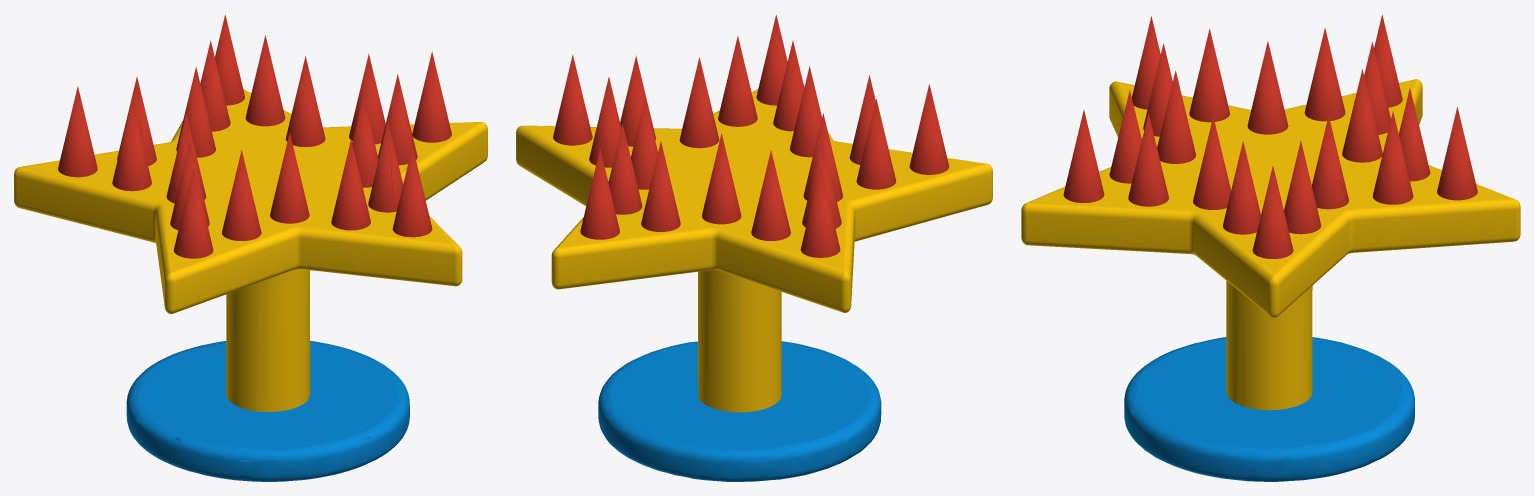
Rendered from palm-star.glb.
The picture shows the model from 3 angles, left to right: view 1: azimuth 30°, elevation 25°; view 2: azimuth 150°, elevation 25°; view 3: azimuth 270°, elevation 25°; orthographic projection. The views are drawn at different scales.
Parts seen in each view (by area): view 1: palm-star-part-003, palm-star-part-001, palm-star-part-002, palm-star-part-004, palm-star-part-022, palm-star-part-007, palm-star-part-008, palm-star-part-014, palm-star-part-020, palm-star-part-009, palm-star-part-012, palm-star-part-005 (+11 smaller); view 2: palm-star-part-003, palm-star-part-001, palm-star-part-002, palm-star-part-016, palm-star-part-023, palm-star-part-006, palm-star-part-020, palm-star-part-011, palm-star-part-014, palm-star-part-013, palm-star-part-021, palm-star-part-004 (+11 smaller); view 3: palm-star-part-003, palm-star-part-001, palm-star-part-002, palm-star-part-022, palm-star-part-010, palm-star-part-016, palm-star-part-011, palm-star-part-023, palm-star-part-012, palm-star-part-006, palm-star-part-007, palm-star-part-020 (+11 smaller).
Part boxes in pixels (box(x1,y1,x2,y2)): palm-star-part-003: box(14, 89, 487, 314); palm-star-part-001: box(126, 341, 409, 481); palm-star-part-002: box(226, 269, 310, 411); palm-star-part-004: box(173, 168, 213, 258); palm-star-part-022: box(245, 35, 285, 126); palm-star-part-007: box(392, 146, 432, 237); palm-star-part-008: box(331, 139, 370, 230); palm-star-part-014: box(58, 86, 97, 177); palm-star-part-020: box(412, 51, 451, 142); palm-star-part-009: box(270, 132, 309, 223); palm-star-part-012: box(112, 100, 151, 191); palm-star-part-005: box(222, 150, 261, 240); palm-star-part-003: box(516, 89, 992, 312); palm-star-part-001: box(598, 341, 881, 481); palm-star-part-002: box(698, 270, 781, 412); palm-star-part-016: box(702, 133, 741, 224); palm-star-part-023: box(580, 148, 619, 239); palm-star-part-006: box(856, 99, 896, 189); palm-star-part-020: box(553, 54, 592, 145); palm-star-part-011: box(718, 36, 757, 126); palm-star-part-014: box(800, 167, 840, 257); palm-star-part-013: box(679, 57, 719, 148); palm-star-part-021: box(641, 141, 680, 231); palm-star-part-004: box(909, 84, 949, 174); palm-star-part-003: box(1021, 79, 1520, 317); palm-star-part-001: box(1124, 337, 1414, 481); palm-star-part-002: box(1226, 281, 1312, 410); palm-star-part-022: box(1372, 111, 1413, 204); palm-star-part-010: box(1247, 41, 1288, 134); palm-star-part-016: box(1342, 69, 1382, 162); palm-star-part-011: box(1128, 113, 1168, 206); palm-star-part-023: box(1437, 107, 1477, 200); palm-star-part-012: box(1304, 28, 1345, 121); palm-star-part-006: box(1189, 29, 1229, 122); palm-star-part-007: box(1063, 110, 1104, 202); palm-star-part-020: box(1252, 165, 1293, 258).
Size of the model in its own units: 2.87 by 2.27 by 3.
